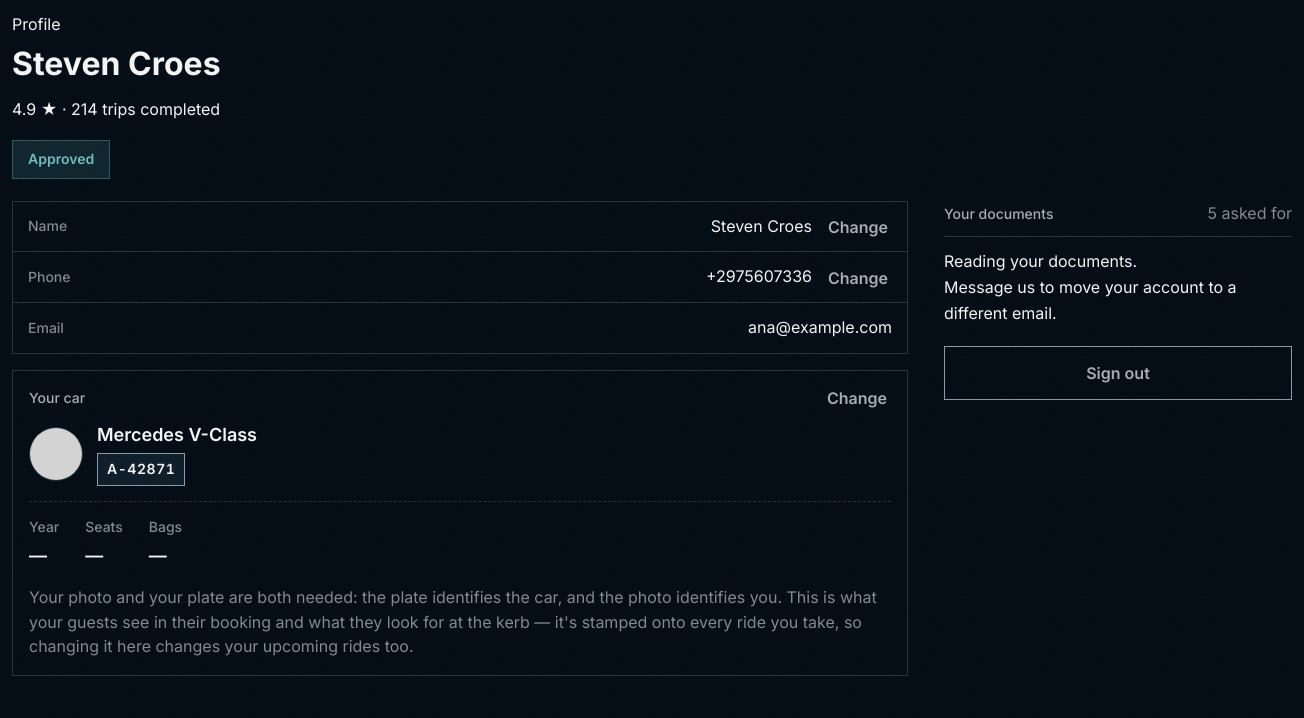
Test: Profile › won't send a number nobody could dial
This screenshot has width=1304, height=718.
Click the button "Change" next to "+2975607336".
click(858, 278)  # box [824,256,892,300]
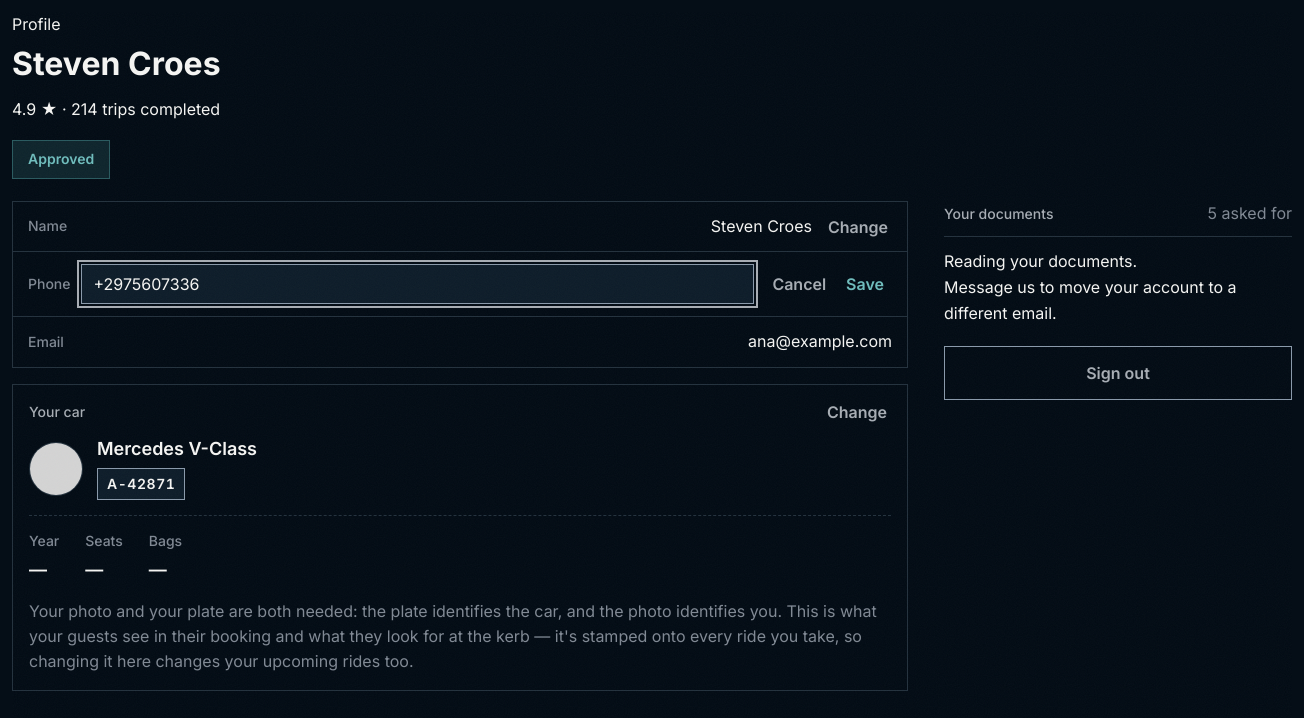
Replace the text in the field labelled "Phone" with "call me" at {"x": 417, "y": 284}, box [80,264,754,304]
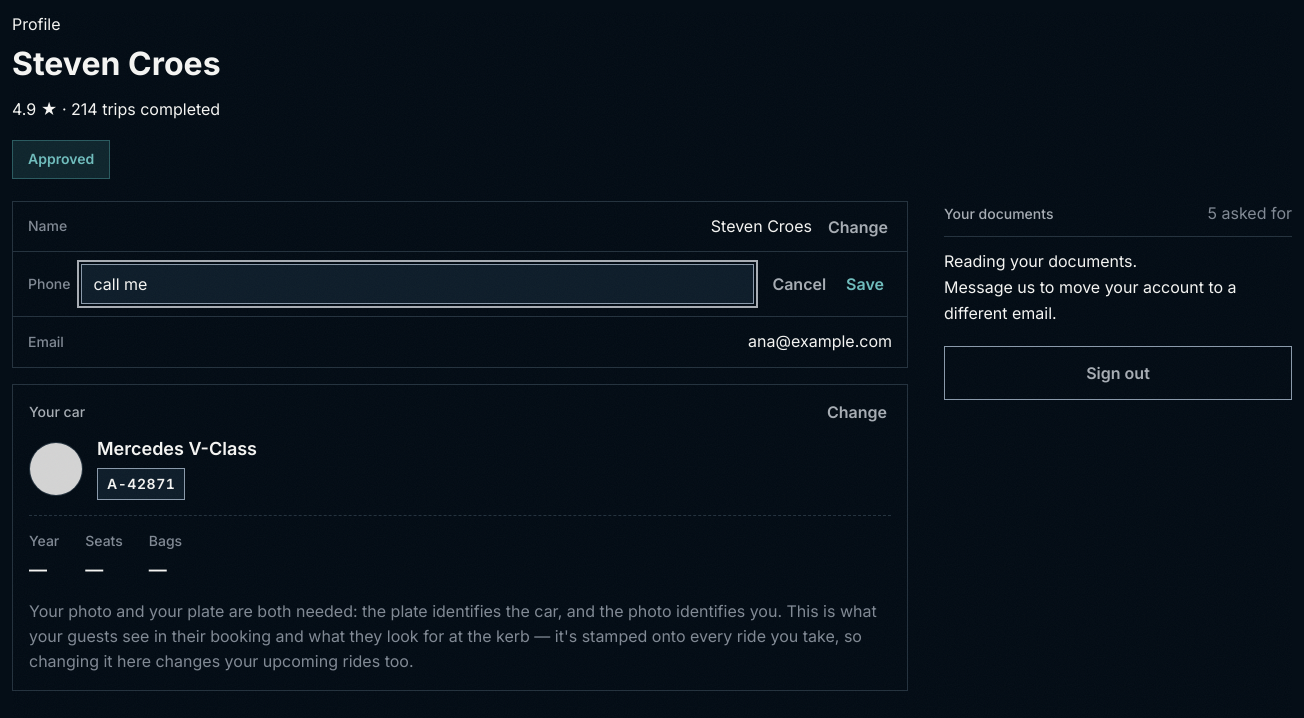
Click the button "Save".
click(865, 284)  # box [838,264,892,304]
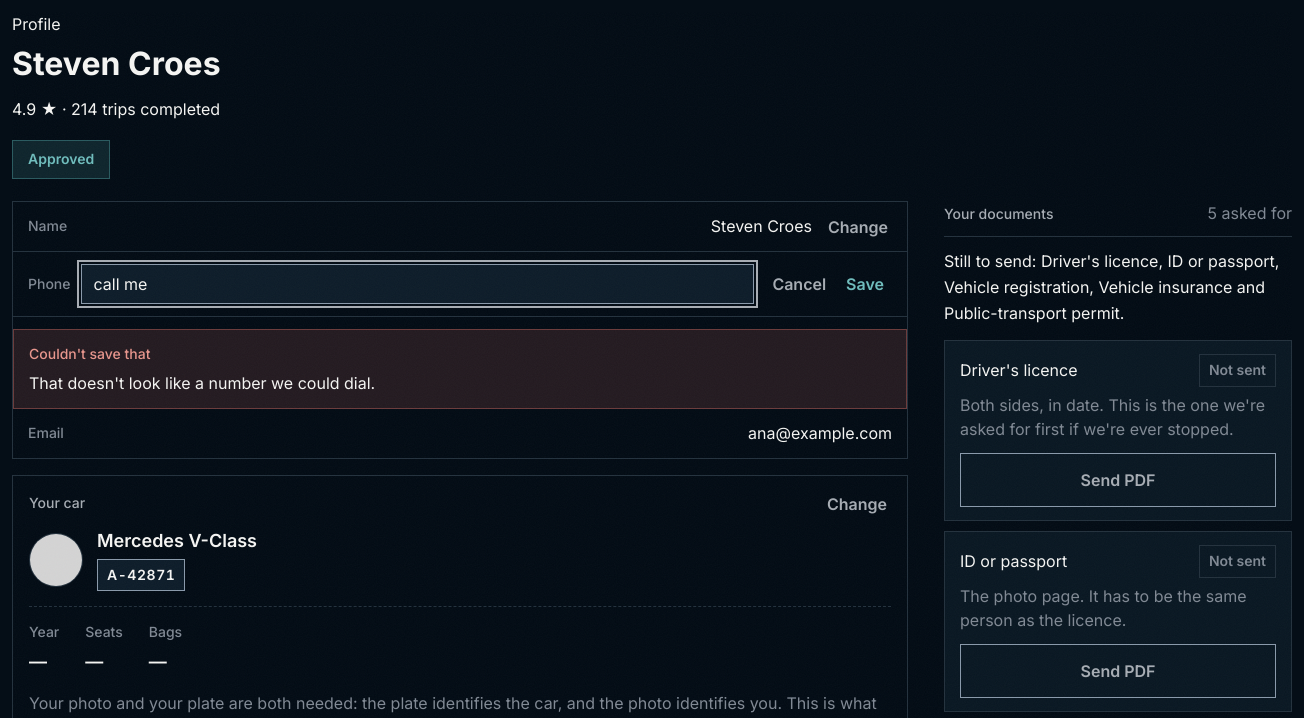
Now the message shows "doesn't look like a number", box [29,373,375,393]
